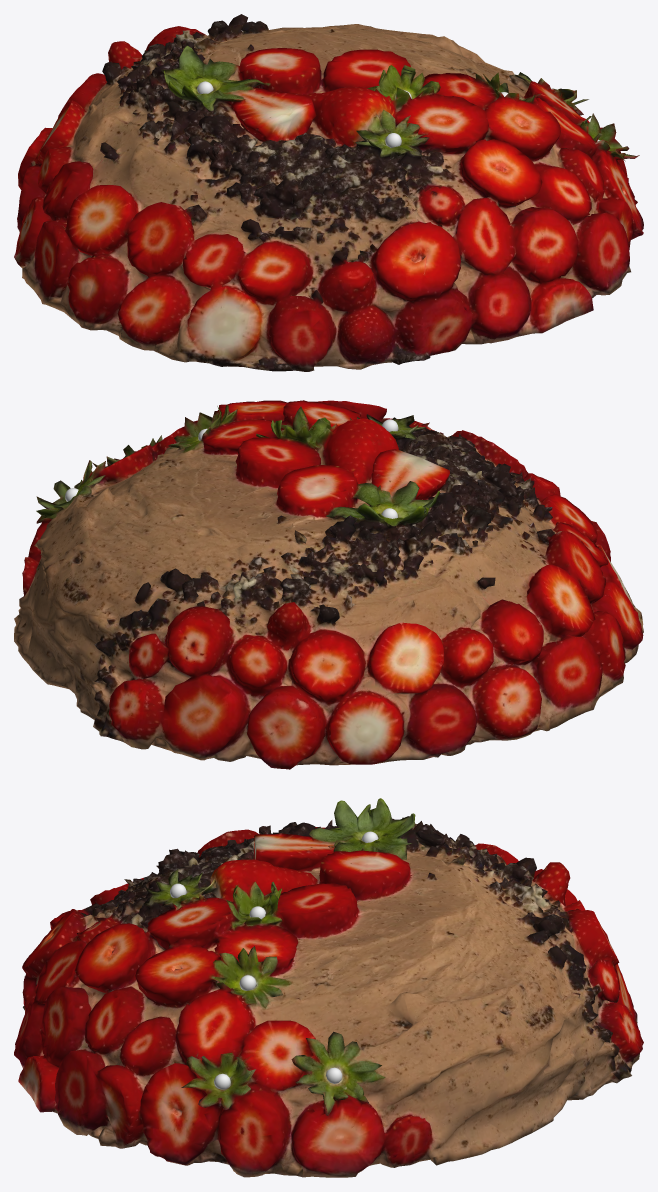
Rendered from strawberry_chocolate_cake.glb.
3 views of the same model, one above another, from view 1: azimuth 30°, elevation 25°; view 2: azimuth 150°, elevation 25°; view 3: azimuth 270°, elevation 25° (orthographic). The views are drawn at different scales.
Visible parts, largest first — view 1: strawberry_chocolate_cake; view 2: strawberry_chocolate_cake; view 3: strawberry_chocolate_cake.
Part boxes in pixels (box(x1,y1,x2,y2)): strawberry_chocolate_cake: box(14, 14, 643, 371); strawberry_chocolate_cake: box(14, 400, 643, 769); strawberry_chocolate_cake: box(14, 798, 643, 1177).
Size of the model in its own units: 0.2443 by 0.0792 by 0.2403.
1 material, 1 textured.
